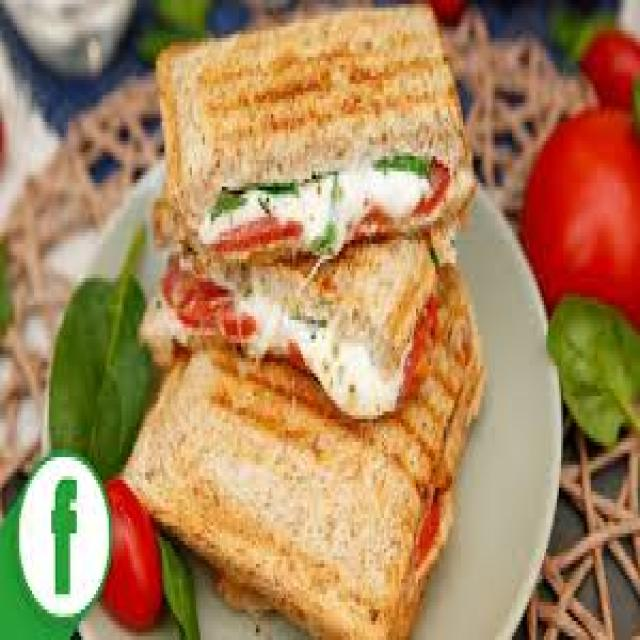Sandwich: (154, 38, 458, 611)
